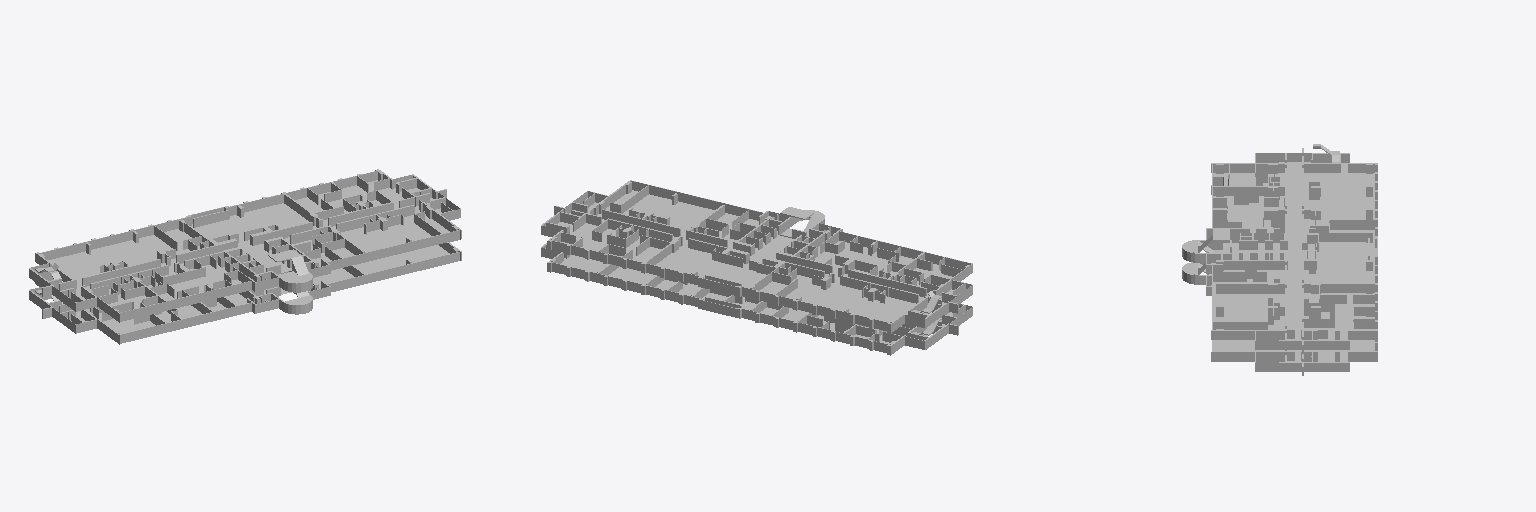
Rendered from nono_versao_01.obj.
3 views of the same model, side by side, from view 1: azimuth 30°, elevation 25°; view 2: azimuth 150°, elevation 25°; view 3: azimuth 270°, elevation 25° (orthographic).
Bounding box in the file's own units: 64.28 × 6.66 × 27.01.